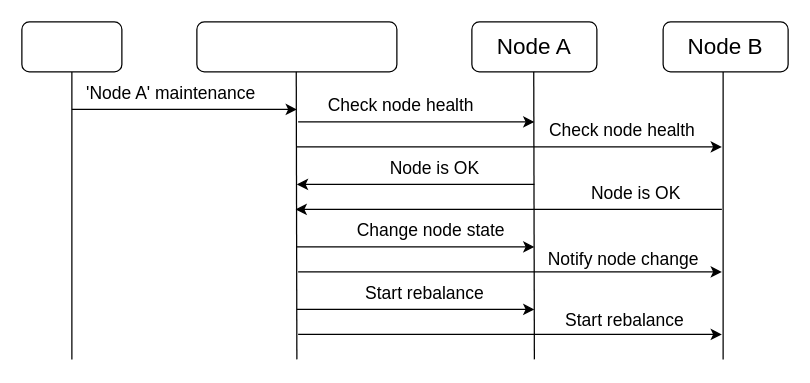
The diagram is 810 pixels wide and 383 high, and some of its shapes have lost their labels. Here are the shapes that lost their labels. From the top down, the box of each, then its label:
(21, 21, 122, 72): Client
(196, 21, 397, 72): Primary proxy
